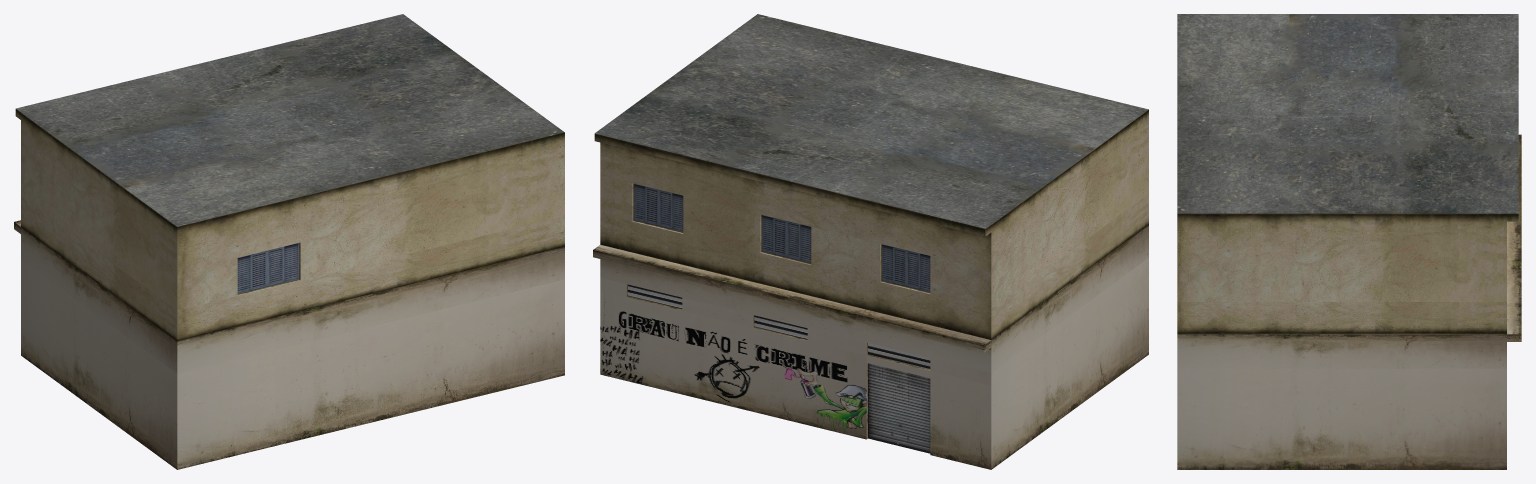
Rendered from Casa01.fbx.
The picture shows the model from 3 angles, left to right: view 1: azimuth 30°, elevation 25°; view 2: azimuth 150°, elevation 25°; view 3: azimuth 270°, elevation 25°; orthographic projection. The views are drawn at different scales.
Visible parts, largest first — view 1: Cubo.224; view 2: Cubo.224; view 3: Cubo.224.
Boxes of the visible parts, bbox=[...] form: Cubo.224: bbox=[14, 14, 564, 469]; Cubo.224: bbox=[593, 14, 1148, 469]; Cubo.224: bbox=[1177, 14, 1521, 469].
Bounding box in the file's own units: 1600 × 959 × 1166.
1 material, 1 textured.
